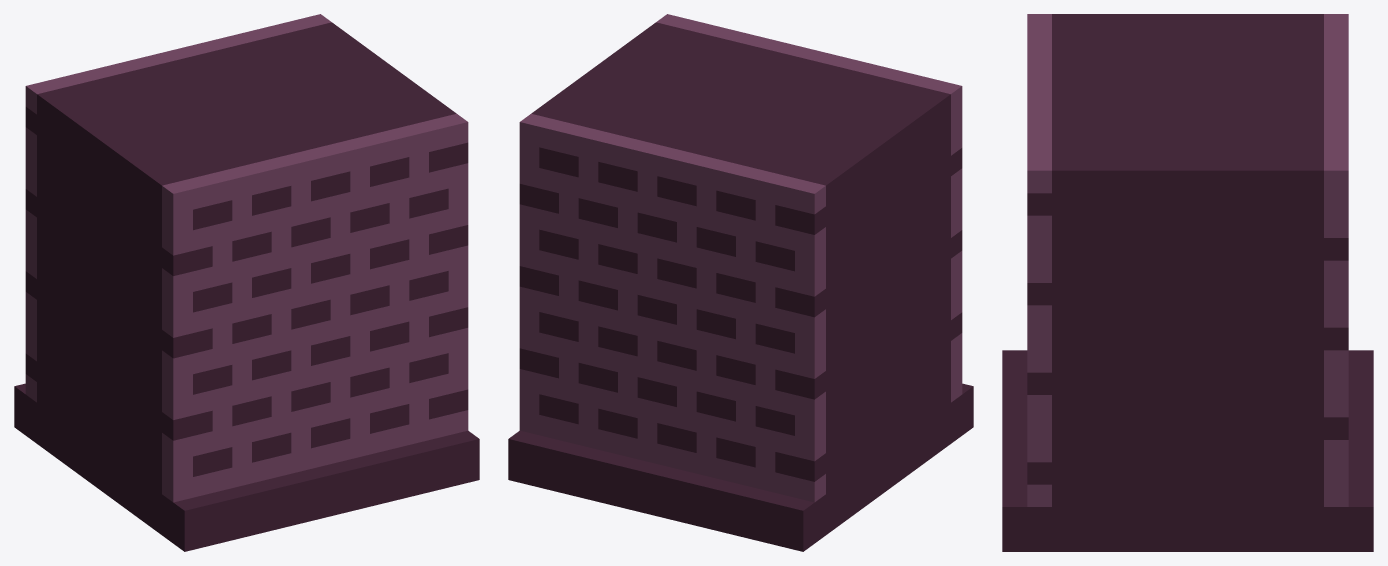
File: dungeon_c_b_inner_wall_segment_a.obj
3 renders of one model, left to right at view 1: azimuth 30°, elevation 25°; view 2: azimuth 150°, elevation 25°; view 3: azimuth 270°, elevation 25°, orthographic. The views are drawn at different scales.
Size of the model in its own units: 1.5 by 1.7 by 1.5.
Materials: 1 (1 with a texture image).
